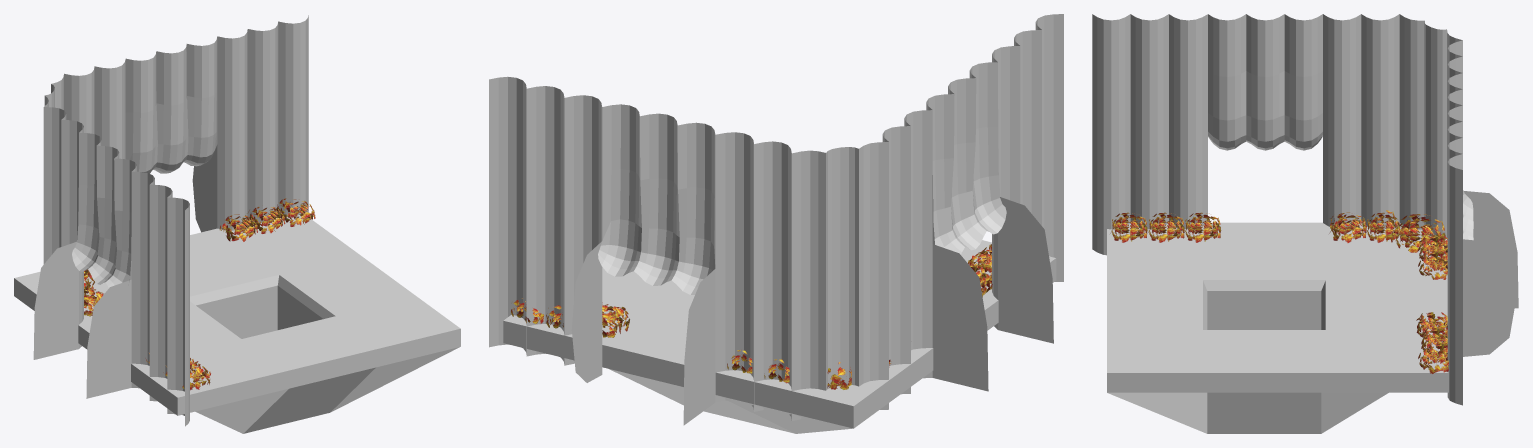
File: HuntersBounty_Room_02.fbx
The picture shows the model from 3 angles, left to right: view 1: azimuth 30°, elevation 25°; view 2: azimuth 150°, elevation 25°; view 3: azimuth 270°, elevation 25°; orthographic projection. The views are drawn at different scales.
Visible parts, largest first — view 1: Walls, Ground_02, Bushes; view 2: Walls, Ground_02, Bushes; view 3: Walls, Ground_02, Bushes.
Part boxes in pixels (left/top/right/bottom): Walls: left=33, top=15, right=308, bottom=426; Ground_02: left=14, top=215, right=460, bottom=433; Bushes: left=84, top=198, right=315, bottom=390; Walls: left=489, top=14, right=1063, bottom=425; Ground_02: left=503, top=240, right=1056, bottom=433; Bushes: left=511, top=244, right=992, bottom=389; Walls: left=1092, top=14, right=1518, bottom=405; Ground_02: left=1107, top=222, right=1448, bottom=433; Bushes: left=1110, top=210, right=1448, bottom=373.
Size of the model in its own units: 2340 by 1907 by 2341.
